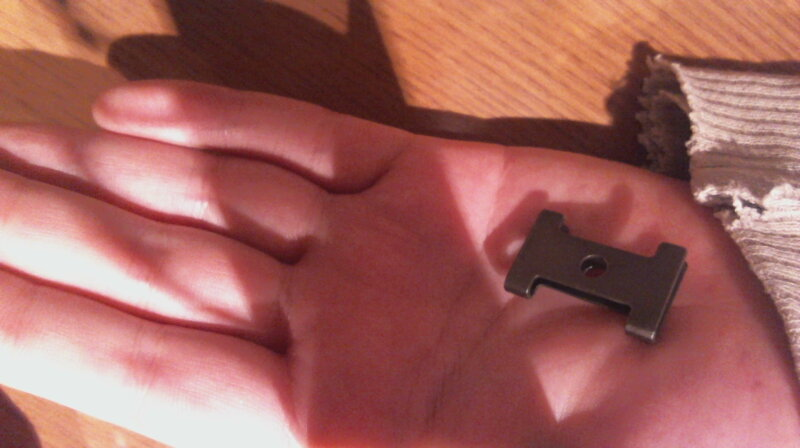O002: (502, 209, 690, 340)
